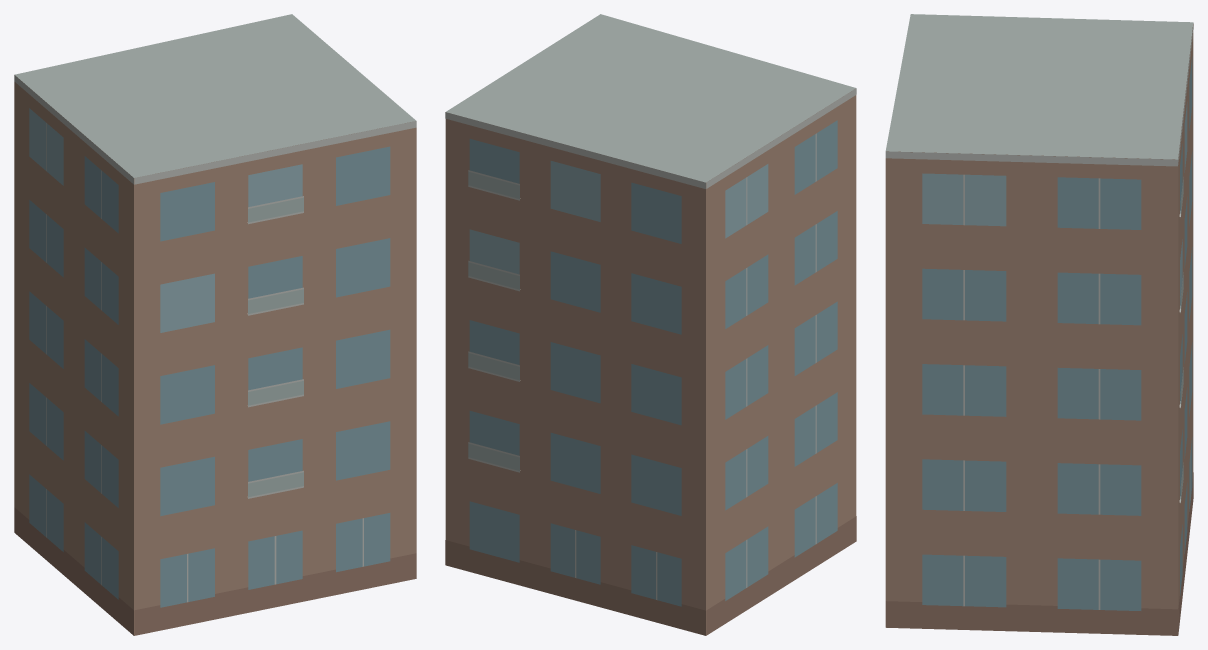
Rendered from survey-upis-32713814.glb.
3 views of the same model, side by side, from view 1: azimuth 30°, elevation 25°; view 2: azimuth 150°, elevation 25°; view 3: azimuth 270°, elevation 25° (orthographic). The views are drawn at different scales.
Parts seen in each view (by area): view 1: survey-upis-32713814.tmp; view 2: survey-upis-32713814.tmp; view 3: survey-upis-32713814.tmp.
Boxes of the visible parts, bbox=[...] form: survey-upis-32713814.tmp: bbox=[14, 14, 416, 635]; survey-upis-32713814.tmp: bbox=[445, 14, 856, 635]; survey-upis-32713814.tmp: bbox=[885, 14, 1193, 635].
Size of the model in its own units: 10.95 by 16.7 by 9.79.
